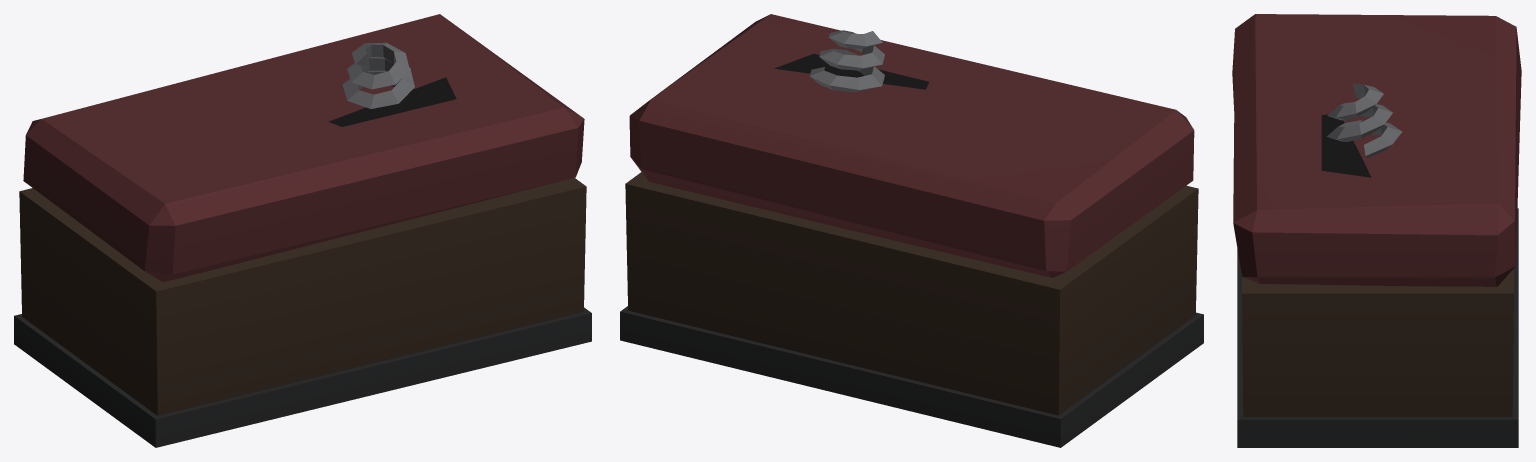
Rendered from booth_seat.glb.
3 renders of one model, left to right at view 1: azimuth 30°, elevation 25°; view 2: azimuth 150°, elevation 25°; view 3: azimuth 270°, elevation 25°, orthographic.
Parts seen in each view (by area): view 1: BoothSeat; view 2: BoothSeat; view 3: BoothSeat.
Boxes of the visible parts, box(x1,y1,x2,y2) form: BoothSeat: box(14, 14, 591, 447); BoothSeat: box(620, 14, 1203, 447); BoothSeat: box(1232, 14, 1521, 447).
Size of the model in its own units: 0.8036 by 0.5015 by 0.4628.
